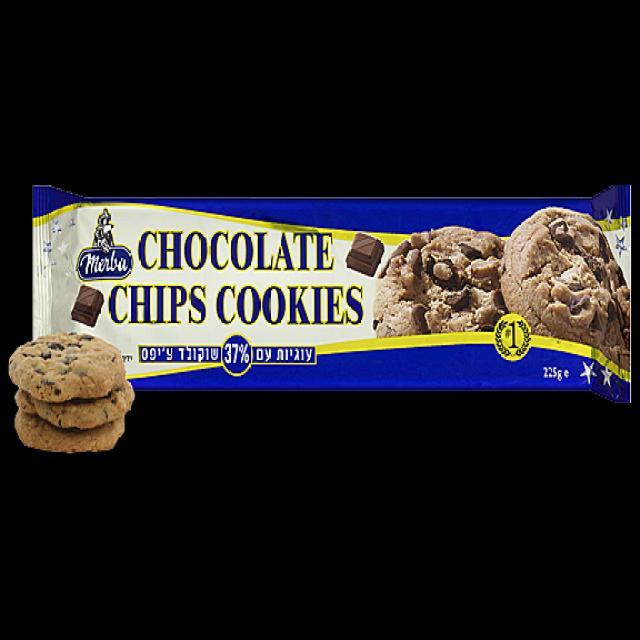Cookie: (32, 187, 626, 401), (502, 206, 631, 372), (9, 326, 133, 455)
